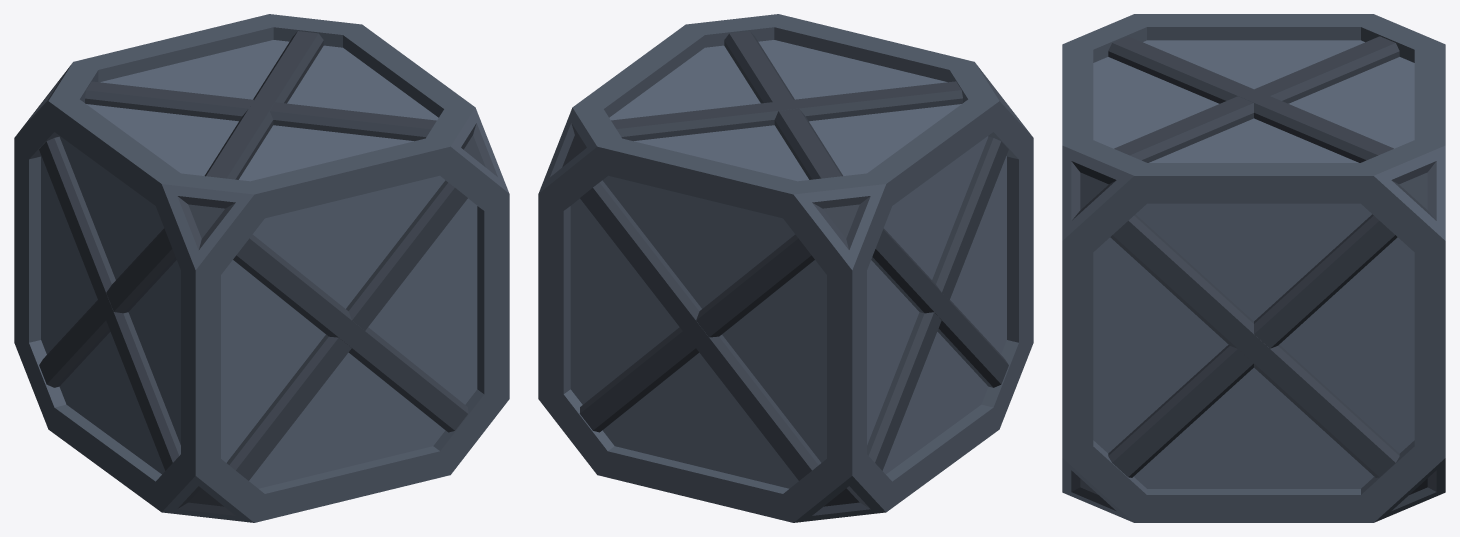
File: Sci-fi_box.fbx
The picture shows the model from 3 angles, left to right: view 1: azimuth 30°, elevation 25°; view 2: azimuth 150°, elevation 25°; view 3: azimuth 270°, elevation 25°; orthographic projection. The views are drawn at different scales.
Visible parts, largest first — view 1: Sci-fi_box; view 2: Sci-fi_box; view 3: Sci-fi_box.
Boxes of the visible parts, x1,y1,x2,y2 form: Sci-fi_box: (14, 14, 509, 522); Sci-fi_box: (538, 14, 1033, 522); Sci-fi_box: (1062, 14, 1445, 522).
Size of the model in its own units: 0.8 by 0.8 by 0.8.
